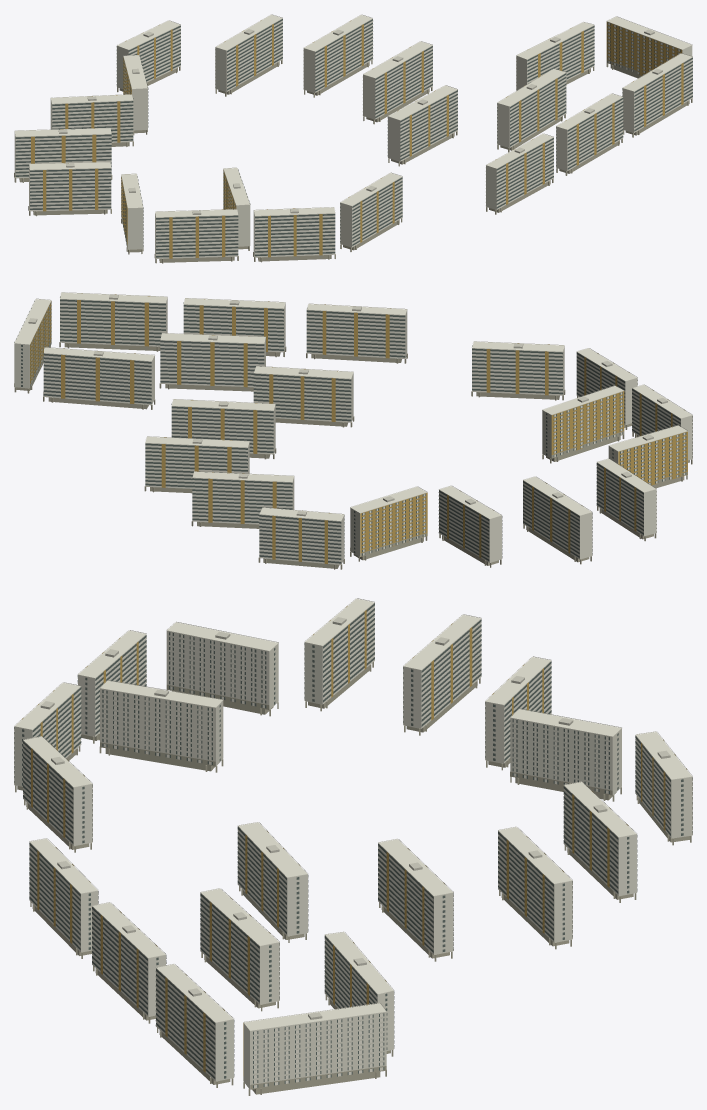
File: representative-a15884703.glb
3 views of the same model, one above another, from view 1: azimuth 30°, elevation 25°; view 2: azimuth 150°, elevation 25°; view 3: azimuth 270°, elevation 25° (orthographic). The views are drawn at different scales.
Parts seen in each view (by area): view 1: A15884703_wall, A15884703_glass, A15884703_trim, A15884703_accent, A15884703_base, A15884703_roof; view 2: A15884703_wall, A15884703_glass, A15884703_trim, A15884703_accent, A15884703_base, A15884703_roof; view 3: A15884703_wall, A15884703_glass, A15884703_trim, A15884703_base, A15884703_accent, A15884703_roof.
Boxes of the visible parts, bbox=[...] form: A15884703_wall: bbox=[14, 14, 692, 258]; A15884703_glass: bbox=[15, 19, 692, 257]; A15884703_trim: bbox=[15, 14, 692, 258]; A15884703_accent: bbox=[31, 20, 683, 258]; A15884703_base: bbox=[14, 59, 692, 263]; A15884703_roof: bbox=[58, 29, 662, 214]; A15884703_wall: bbox=[14, 292, 692, 564]; A15884703_glass: bbox=[14, 296, 692, 563]; A15884703_trim: bbox=[14, 292, 692, 564]; A15884703_accent: bbox=[30, 293, 687, 563]; A15884703_base: bbox=[14, 341, 692, 569]; A15884703_roof: bbox=[28, 294, 667, 516]; A15884703_wall: bbox=[14, 598, 692, 1089]; A15884703_glass: bbox=[14, 603, 692, 1088]; A15884703_trim: bbox=[14, 598, 692, 1088]; A15884703_base: bbox=[15, 662, 691, 1095]; A15884703_accent: bbox=[22, 606, 686, 1075]; A15884703_roof: bbox=[40, 617, 670, 1019].
Bounding box in the file's own units: 512 × 37.2 × 340.
